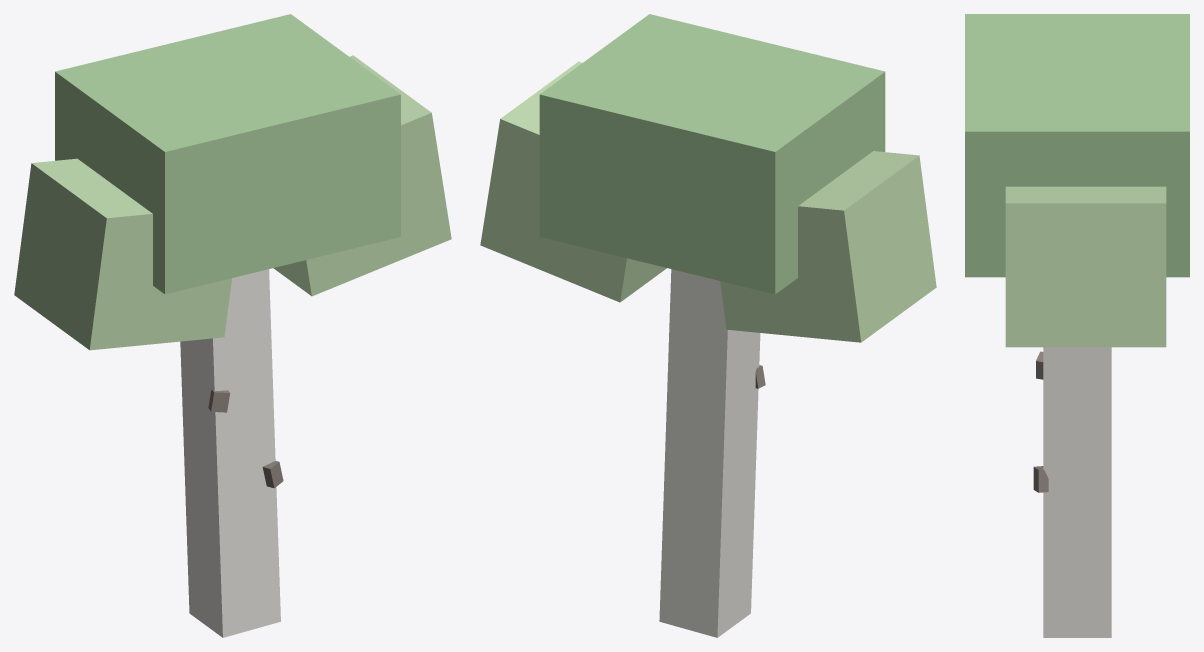
The model's file is tree-birch.glb.
3 views of the same model, side by side, from view 1: azimuth 30°, elevation 25°; view 2: azimuth 150°, elevation 25°; view 3: azimuth 270°, elevation 25° (orthographic). The views are drawn at different scales.
Visible parts, largest first — view 1: birch-crown-high, birch-trunk, birch-crown-left, birch-crown-right; view 2: birch-crown-high, birch-trunk, birch-crown-left, birch-crown-right; view 3: birch-crown-high, birch-crown-right, birch-trunk, birch-mark-1.
Boxes of the visible parts, x1,y1,x2,y2 form: birch-crown-high: [55, 14, 400, 294]; birch-trunk: [180, 269, 280, 637]; birch-crown-left: [14, 158, 231, 350]; birch-crown-right: [273, 55, 451, 296]; birch-crown-high: [539, 14, 885, 294]; birch-trunk: [659, 269, 760, 637]; birch-crown-left: [720, 151, 936, 342]; birch-crown-right: [480, 61, 666, 302]; birch-crown-high: [965, 14, 1189, 277]; birch-crown-right: [1005, 186, 1166, 347]; birch-trunk: [1043, 347, 1111, 637]; birch-mark-1: [1033, 466, 1048, 492].
Size of the model in its own units: 2.04 by 2.83 by 1.05.
